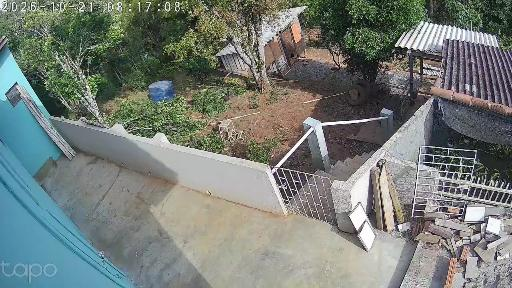galinha: (222, 95, 232, 102)
